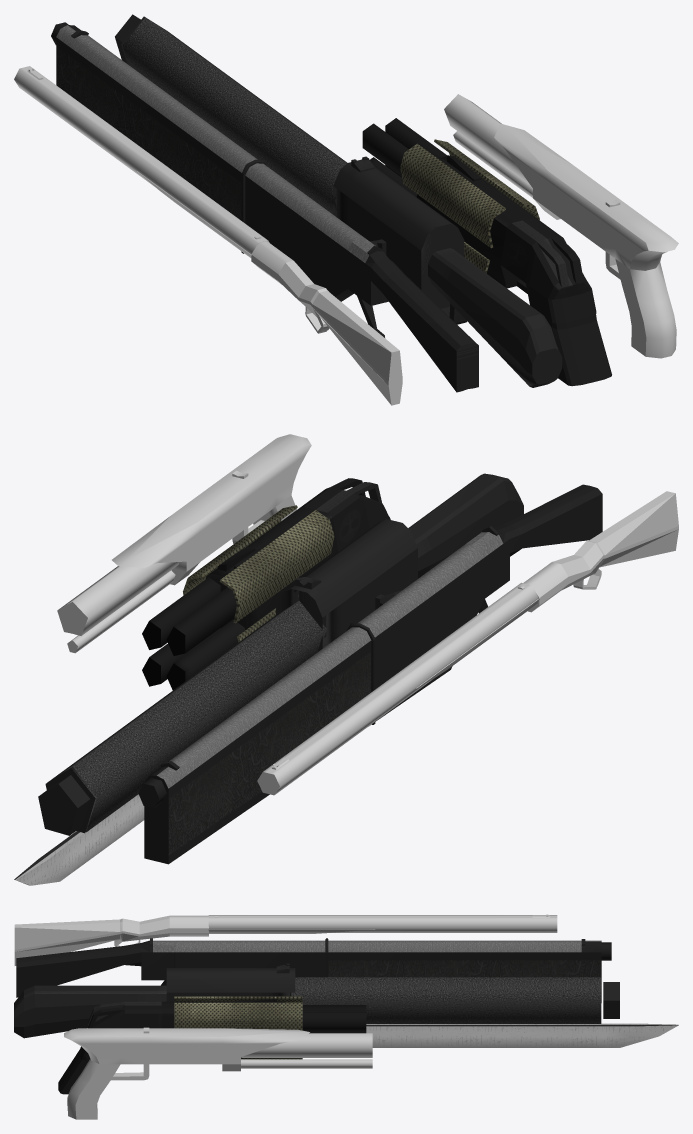
Rendered from 5 Guns.FBX.
The picture shows the model from 3 angles, top to bottom: view 1: azimuth 30°, elevation 25°; view 2: azimuth 150°, elevation 25°; view 3: azimuth 270°, elevation 25°; orthographic projection. The views are drawn at different scales.
Visible parts, largest first — view 1: Box002, Cylinder001, Box001, Plane001, Box003; view 2: Box002, Cylinder001, Box001, Plane001, Box003; view 3: Box002, Cylinder001, Plane001, Box003, Box001.
Part boxes in pixels (x1,y1,x2,y2): Box002: (115,14,562,387); Cylinder001: (51,22,478,392); Box001: (362,118,611,386); Plane001: (444,94,678,358); Box003: (14,66,402,405); Box002: (14,473,523,885); Cylinder001: (138,484,602,864); Box001: (142,478,390,690); Plane001: (57,434,311,653); Box003: (257,491,678,795); Box002: (14,963,678,1047); Cylinder001: (16,938,611,1002); Plane001: (64,1027,372,1119); Box003: (14,914,557,965); Box001: (58,996,366,1094).
Size of the model in its own units: 99.8 by 36.32 by 235.
